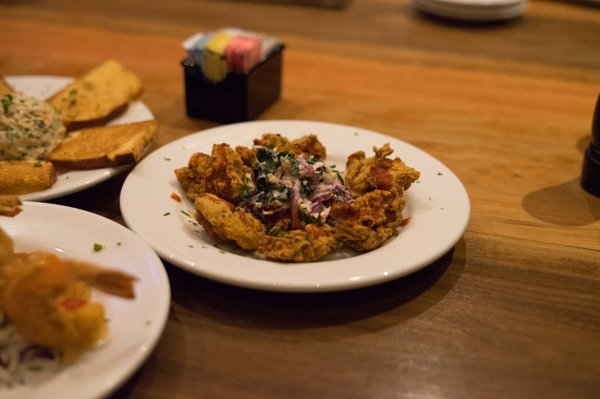curry: (8, 2, 598, 394)
sushi: (45, 121, 158, 169)
